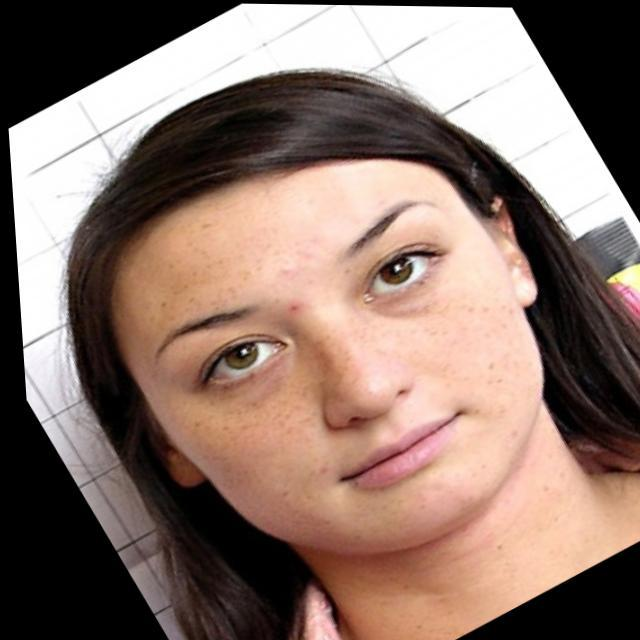Nonhelmet: (57, 64, 639, 638)
